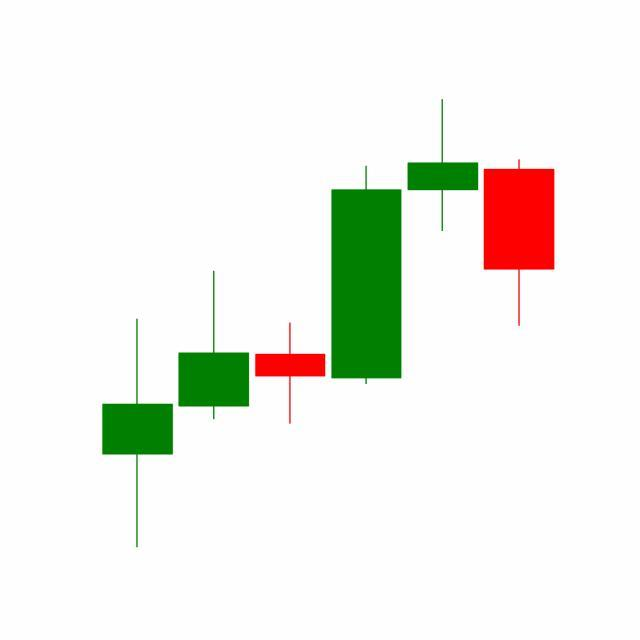Three Outside Up-Down: (252, 100, 482, 430)
